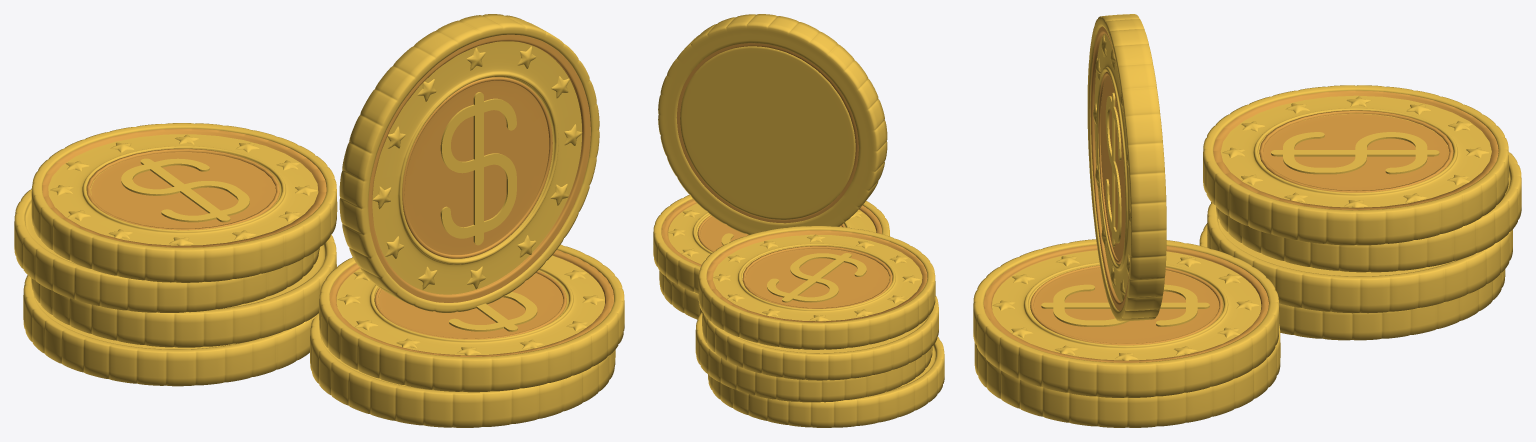
The model's file is coins-3d-animated-icon-683711996225.glb.
3 renders of one model, left to right at view 1: azimuth 30°, elevation 25°; view 2: azimuth 150°, elevation 25°; view 3: azimuth 270°, elevation 25°, orthographic. The views are drawn at different scales.
Visible parts, largest first — view 1: Cylinder.001, Cylinder.004, Cylinder.012, Cylinder.006, Cylinder.003, Cylinder.008, Cylinder.009, Curve.002, Curve.003, Curve.001; view 2: Cylinder.001, Cylinder.004, Cylinder.009, Cylinder.006, Cylinder.012, Cylinder.008, Curve.003, Cylinder.003; view 3: Cylinder.004, Cylinder.012, Cylinder.001, Cylinder.008, Cylinder.003, Cylinder.009, Cylinder.006, Curve.003, Curve.001, Curve.002.
Part boxes in pixels (x1,y1,x2,y2): Cylinder.001: (339, 14, 599, 312); Cylinder.004: (31, 123, 337, 282); Cylinder.012: (319, 244, 624, 392); Cylinder.006: (23, 275, 317, 386); Cylinder.003: (310, 313, 615, 427); Cylinder.008: (31, 234, 336, 347); Cylinder.009: (14, 188, 319, 312); Curve.002: (440, 92, 516, 245); Curve.003: (121, 158, 249, 222); Curve.001: (449, 292, 537, 331); Cylinder.001: (658, 14, 887, 234); Cylinder.004: (698, 226, 935, 349); Cylinder.009: (702, 296, 938, 380); Cylinder.006: (708, 336, 944, 427); Cylinder.012: (653, 194, 889, 293); Cylinder.008: (695, 312, 932, 402); Curve.003: (767, 253, 866, 302); Cylinder.003: (659, 271, 701, 319); Cylinder.004: (1203, 85, 1508, 245); Cylinder.012: (973, 239, 1279, 397); Cylinder.001: (1087, 14, 1166, 321); Cylinder.008: (1207, 202, 1512, 313); Cylinder.003: (974, 324, 1280, 427); Cylinder.009: (1216, 152, 1521, 272); Cylinder.006: (1199, 223, 1505, 340); Curve.003: (1271, 132, 1439, 174); Curve.001: (1041, 284, 1209, 326); Curve.002: (1105, 92, 1121, 246).
Size of the model in its own units: 2.02 by 1.46 by 2.14.
